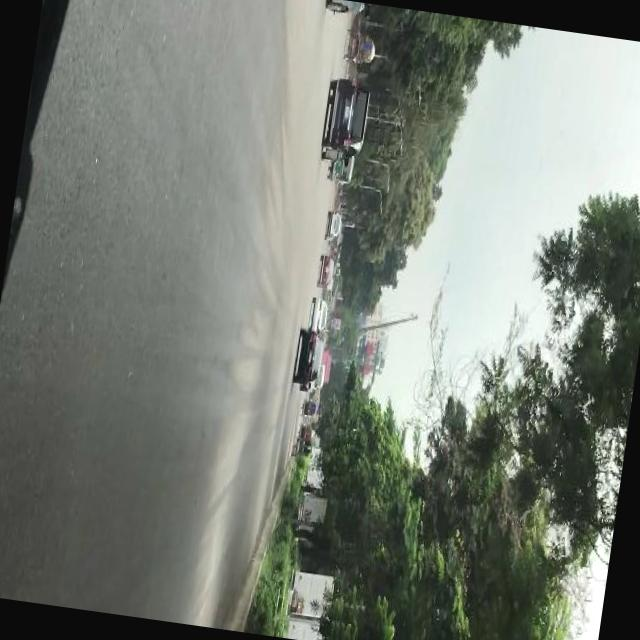car: (292, 328, 326, 383), (316, 252, 336, 288), (309, 296, 329, 328), (325, 210, 342, 238)
motorcycle: (327, 154, 354, 182), (298, 396, 318, 418), (294, 421, 314, 439), (293, 439, 312, 457)
truck: (321, 76, 373, 166)
